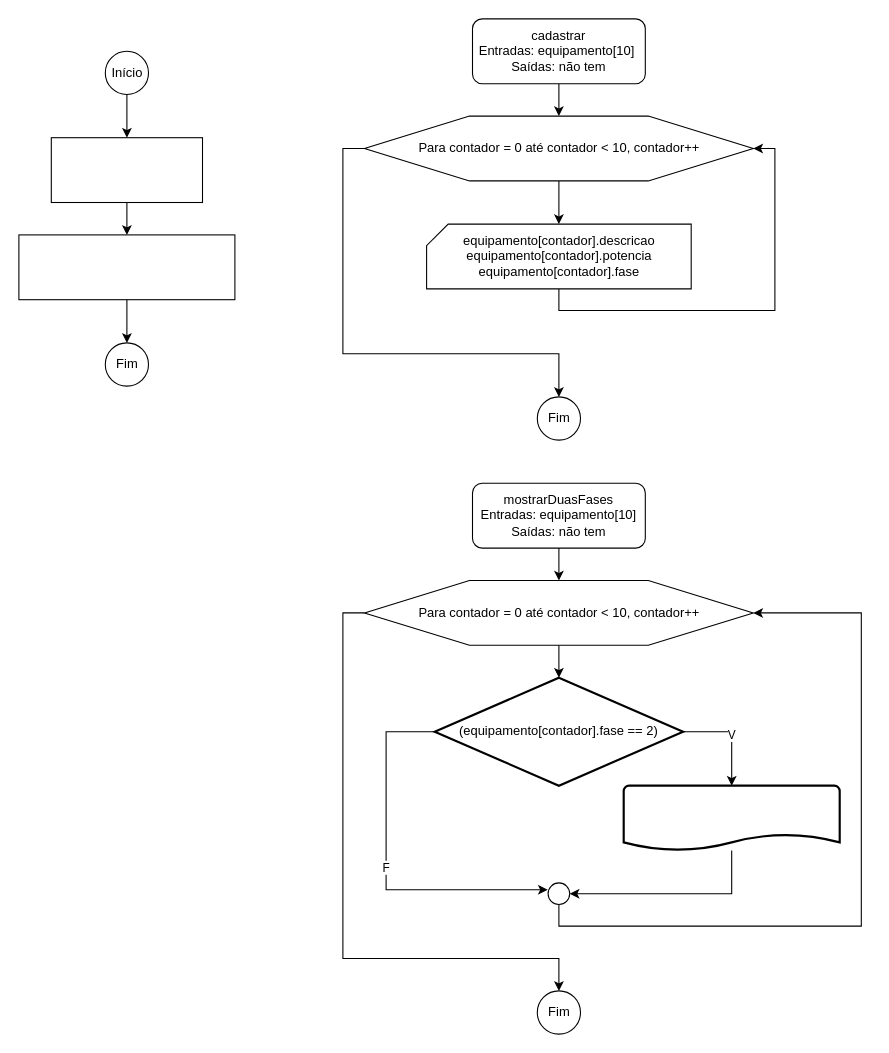
Some shapes in this 889 by 1053 pixel diagram are drawn without their labels. The shapes that lost their labels are listed below. From the top down, each one's centre as x and y in pixels, then its label:
At pixel 126 169: "cadastrar(equipamento)".
At pixel 126 267: "mostrarDuasFases(equipamento)".
At pixel 731 817: "equipamento[contador].descricao".
